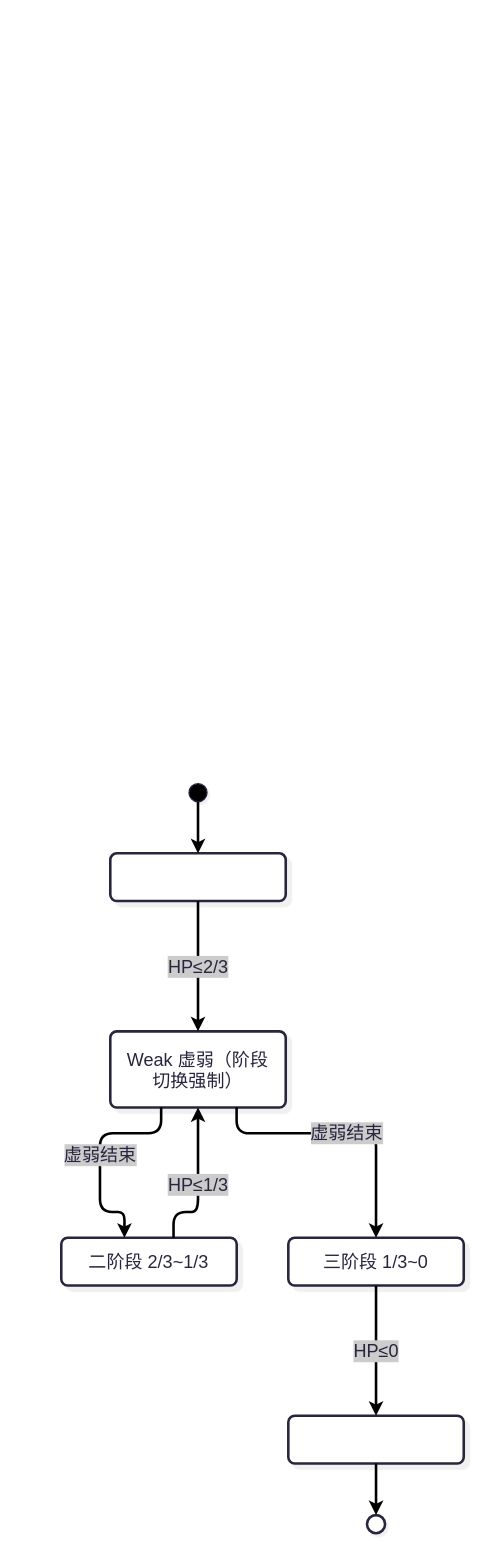
Some shapes in this 491 by 1558 pixel diagram are drawn without their labels. Each missing label, with the centre of its shape:
Dead 坠落死亡: [378,1441]
一阶段 100%~2/3: [200,879]
